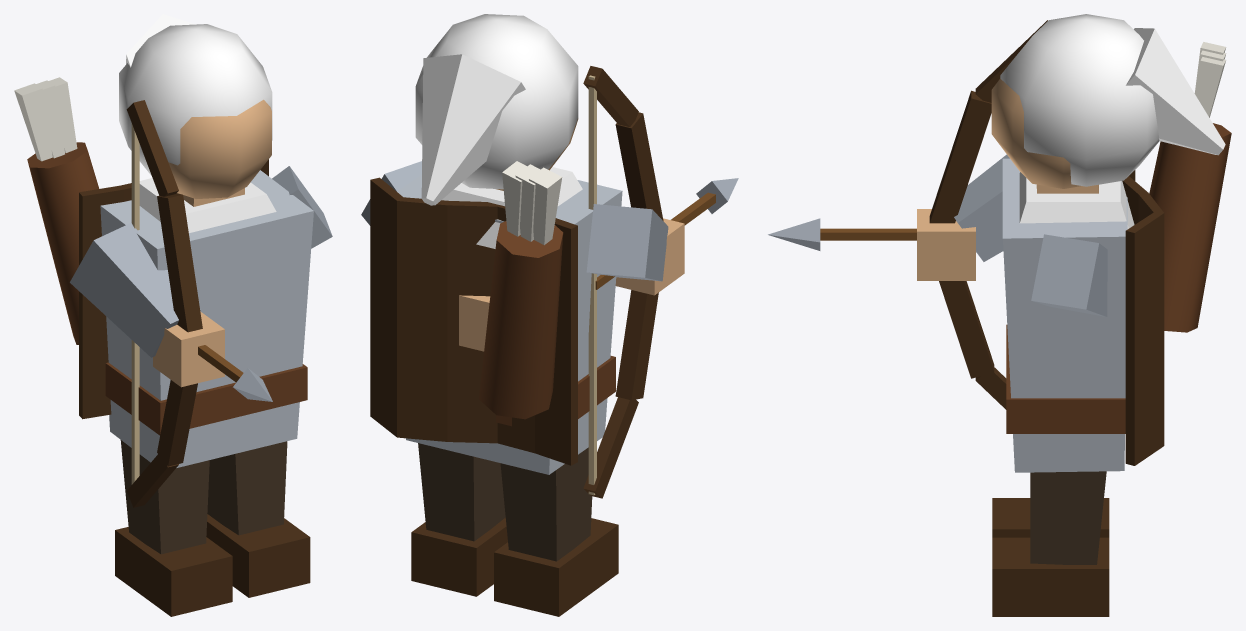
Rendered from Archer_SecondAge.glb.
The picture shows the model from 3 angles, left to right: view 1: azimuth 30°, elevation 25°; view 2: azimuth 150°, elevation 25°; view 3: azimuth 270°, elevation 25°; orthographic projection. The views are drawn at different scales.
Parts seen in each view (by area): view 1: Metal, Team, Leather, Left_Dark, Left_Steel, Skin, LegA_Dark, LegB_Trouser, LegA_Trouser, LegB_Dark, Dark, Feather (+4 smaller); view 2: Dark, Team, Leather, Left_Dark, Metal, LegA_Trouser, LegA_Dark, LegB_Trouser, Left_Steel, LegB_Dark, Feather, Left_Rope (+4 smaller); view 3: Team, Metal, Leather, Dark, Left_Dark, LegB_Dark, LegB_Trouser, Right_Steel, Skin, Left_Steel, Left_Skin, LegA_Dark (+2 smaller).
Part boxes in pixels (<box>): Metal: <box>100,170,313,467</box>; Team: <box>119,14,276,232</box>; Leather: <box>27,142,307,435</box>; Left_Dark: <box>126,100,202,507</box>; Left_Steel: <box>70,222,272,401</box>; Skin: <box>168,99,271,206</box>; LegA_Dark: <box>115,527,232,616</box>; LegB_Trouser: <box>207,441,287,535</box>; LegA_Trouser: <box>120,440,209,554</box>; LegB_Dark: <box>206,514,310,597</box>; Dark: <box>79,159,268,419</box>; Feather: <box>14,77,77,161</box>; Dark: <box>370,177,577,465</box>; Team: <box>415,14,582,248</box>; Leather: <box>479,221,615,426</box>; Left_Dark: <box>583,66,663,498</box>; Metal: <box>397,174,622,474</box>; LegA_Trouser: <box>500,447,592,561</box>; LegA_Dark: <box>494,518,618,616</box>; LegB_Trouser: <box>418,443,505,541</box>; Left_Steel: <box>586,178,738,281</box>; LegB_Dark: <box>411,517,507,596</box>; Feather: <box>502,161,562,245</box>; Left_Rope: <box>588,75,596,495</box>; Team: <box>1000,14,1225,228</box>; Metal: <box>1002,158,1127,472</box>; Leather: <box>1006,123,1231,433</box>; Dark: <box>1122,170,1164,465</box>; Left_Dark: <box>929,20,1047,409</box>; LegB_Dark: <box>992,537,1109,616</box>; LegB_Trouser: <box>1030,471,1106,564</box>; Right_Steel: <box>1031,234,1107,316</box>; Skin: <box>991,78,1098,193</box>; Left_Steel: <box>768,154,1009,261</box>; Left_Skin: <box>917,209,975,280</box>; LegA_Dark: <box>992,498,1109,537</box>.
Bounding box in the file's own units: 0.4162 × 0.8195 × 0.6142.
